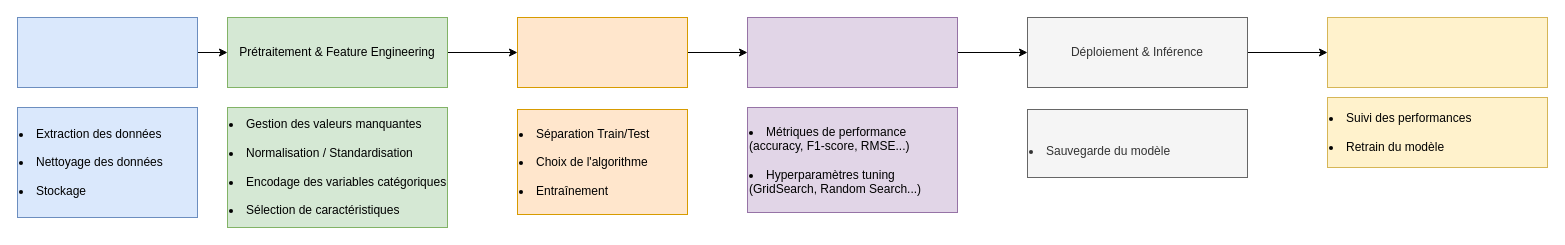
The diagram is 1565 pixels wide and 245 high, and some of its shapes have lost their labels. Here are the shapes that lost their labels. From the top down, the centre of each, then its label:
At (107,52): "Collecte des données".
At (602,52): "Entraînement du modèle".
At (852,52): "Évaluation & Optimisation".
At (1437,52): "Monitoring & Amélioration".
